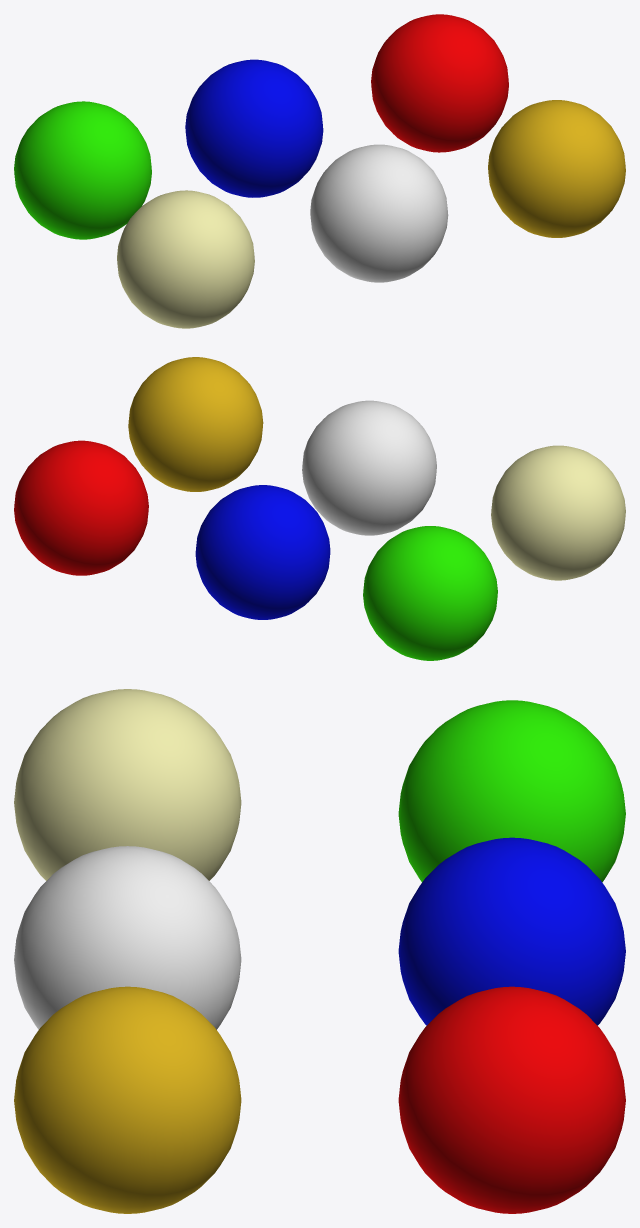
Rendered from pbr.glb.
The picture shows the model from 3 angles, top to bottom: view 1: azimuth 30°, elevation 25°; view 2: azimuth 150°, elevation 25°; view 3: azimuth 270°, elevation 25°; orthographic projection. The views are drawn at different scales.
Visible parts, largest first — view 1: Sphere.003, Sphere.002, Sphere.001, Sphere.004, Sphere, Sphere.005; view 2: Sphere.003, Sphere.001, Sphere.005, Sphere, Sphere.002, Sphere.004; view 3: Sphere.003, Sphere, Sphere.002, Sphere.004, Sphere.001, Sphere.005.
Boxes of the visible parts, x1,y1,x2,y2 form: Sphere.003: (371,14,508,152); Sphere.002: (117,190,254,328); Sphere.001: (310,144,448,282); Sphere.004: (185,59,323,197); Sphere: (488,100,625,237); Sphere.005: (14,101,151,239); Sphere.003: (14,440,148,575); Sphere.001: (302,400,436,535); Sphere.005: (363,526,497,660); Sphere: (128,357,263,491); Sphere.002: (491,445,625,580); Sphere.004: (195,485,330,619); Sphere.003: (398,986,625,1213); Sphere: (14,986,241,1213); Sphere.002: (14,689,241,880); Sphere.004: (398,837,625,1025); Sphere.001: (14,846,241,1029); Sphere.005: (398,700,625,882).
Size of what is drawn, in the model's own units: 8.19 by 2.02 by 5.38.
